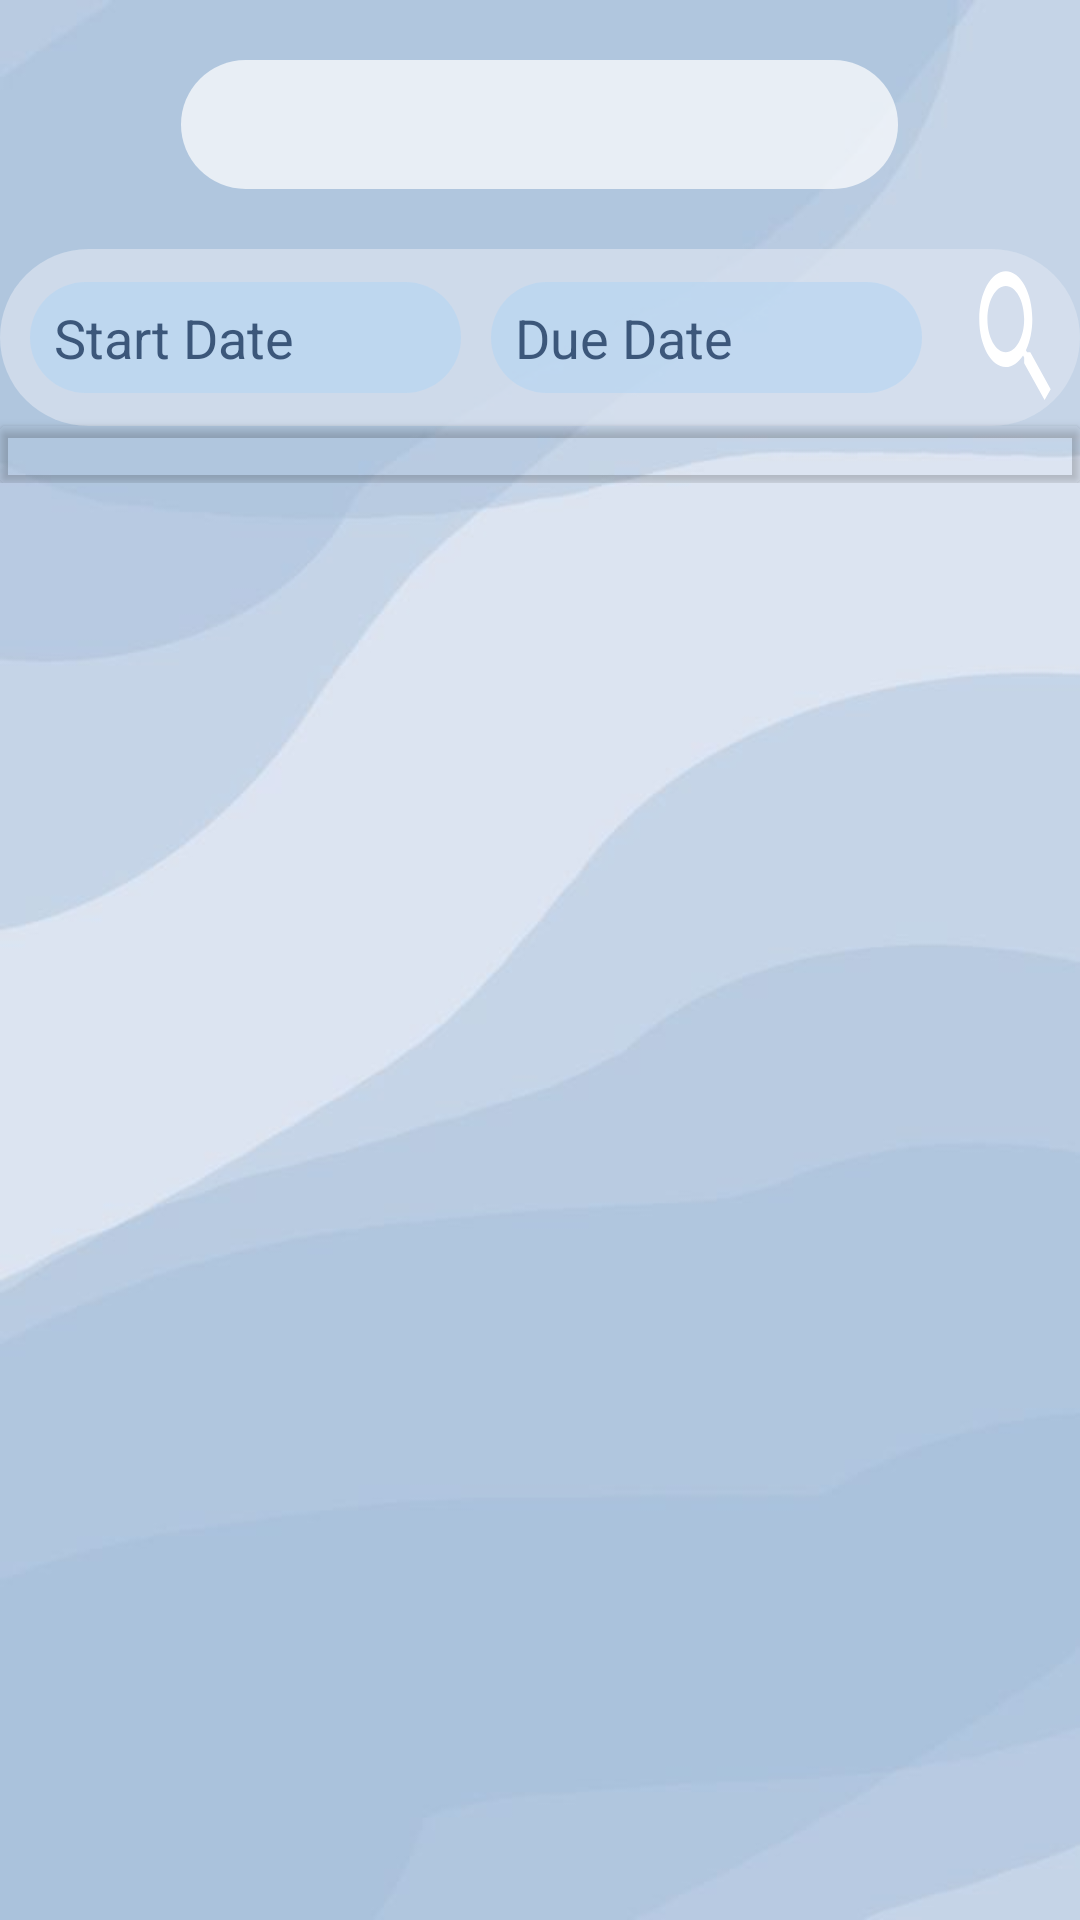

Icon bounding boxes for this 1080w x 1920h phone screenshot, format [x1, y1, x2, y2]:
search: [979, 271, 1050, 400]
